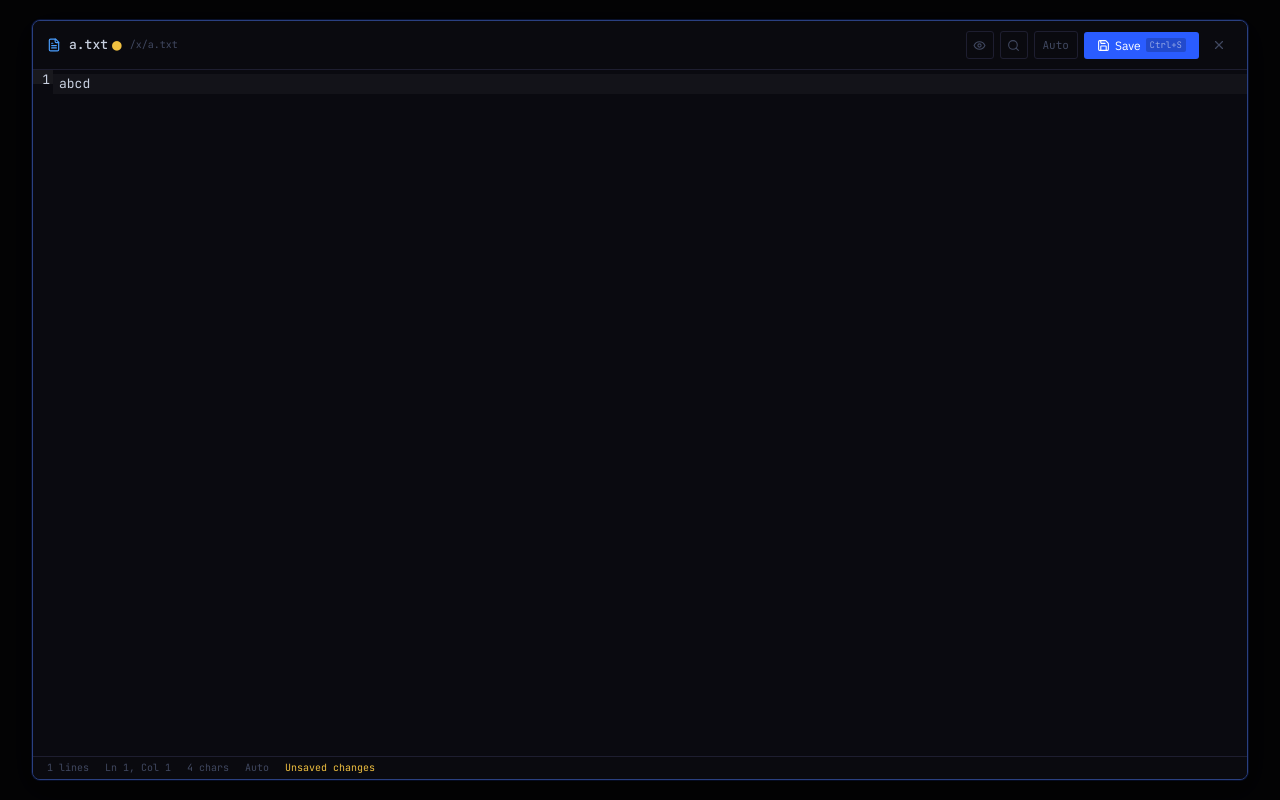
TextEditor 미저장 확인 (Todo #75) › TED-08: 확인창이 열린 상태에서 Esc → 확인창 취소
Click the button titled "Close (Esc)": (1219, 45) [1205,31,1233,59]
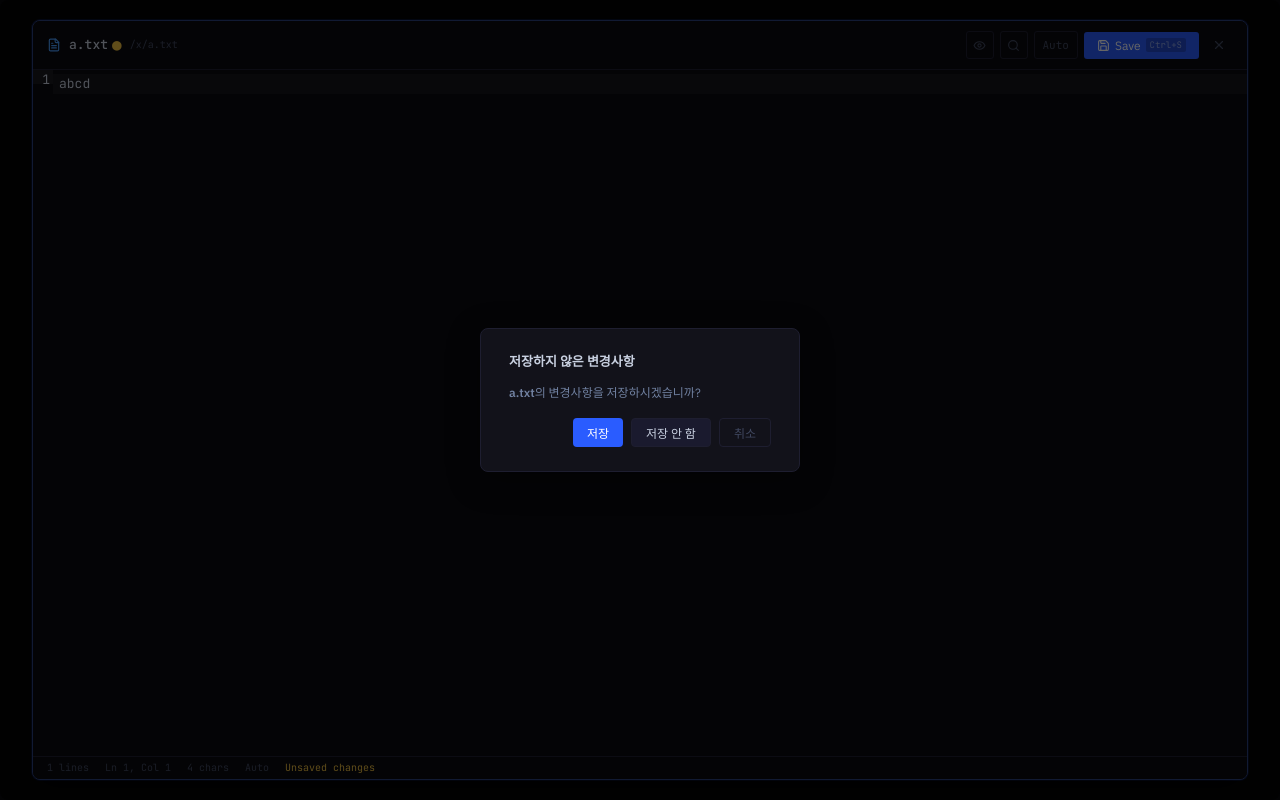
Press Escape
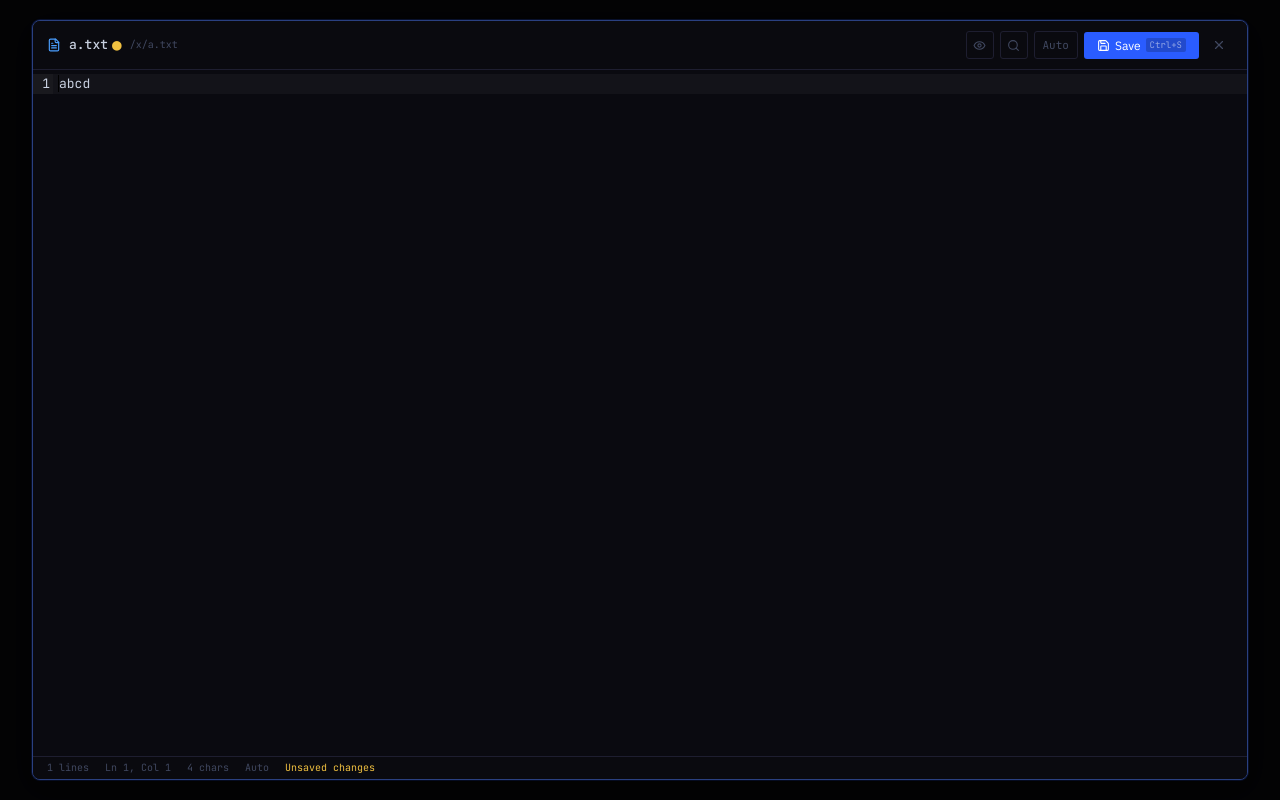
Result: the text "저장하지 않은 변경사항" is gone
